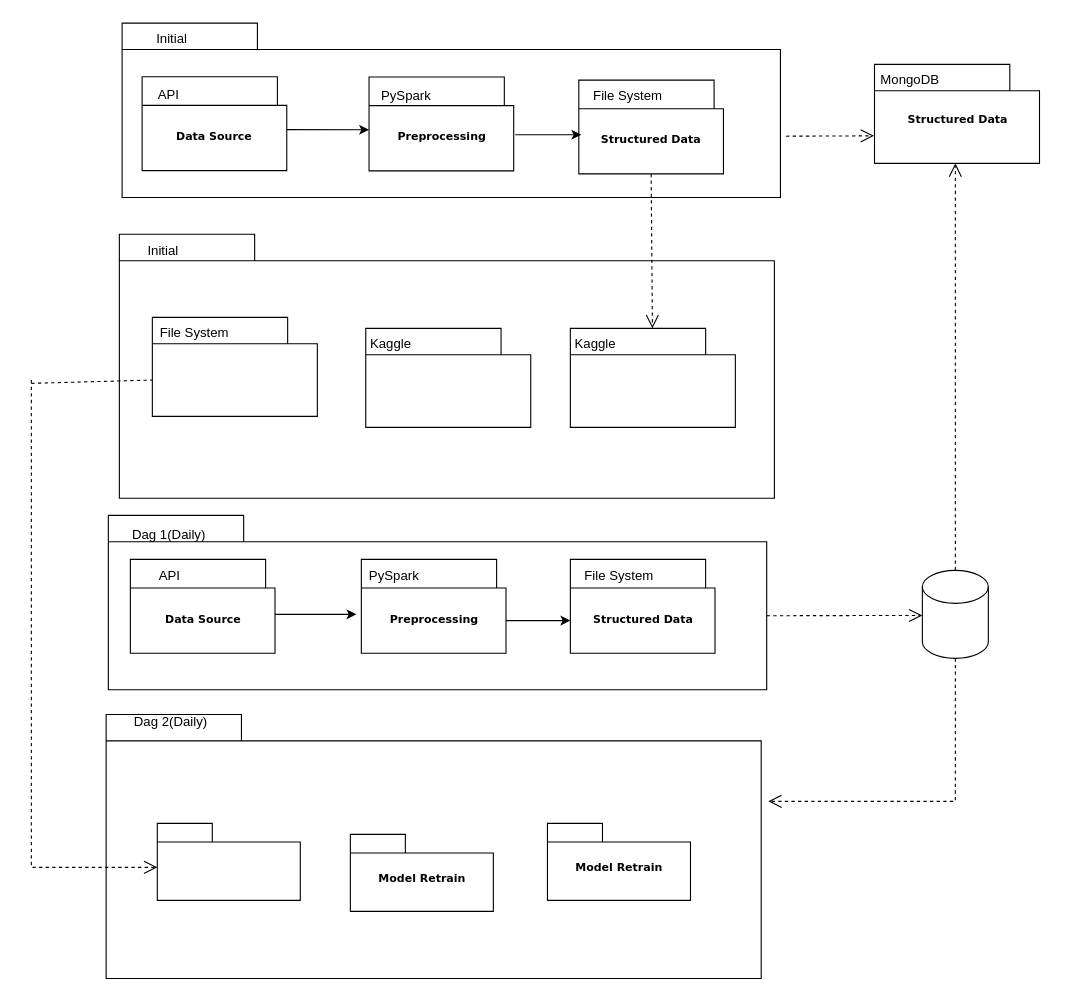
The diagram is 1086 pixels wide and 998 high, and some of its shapes have lost their labels. The box of each missing label's shape, as (x1, y1, x2, y2) in pixels:
Load Saved Model: (156, 822, 300, 900)
Model Save: (151, 316, 317, 416)
Model Selection: (365, 327, 531, 427)
Model Train: (569, 327, 735, 427)
New Daily Data: (921, 569, 988, 658)
